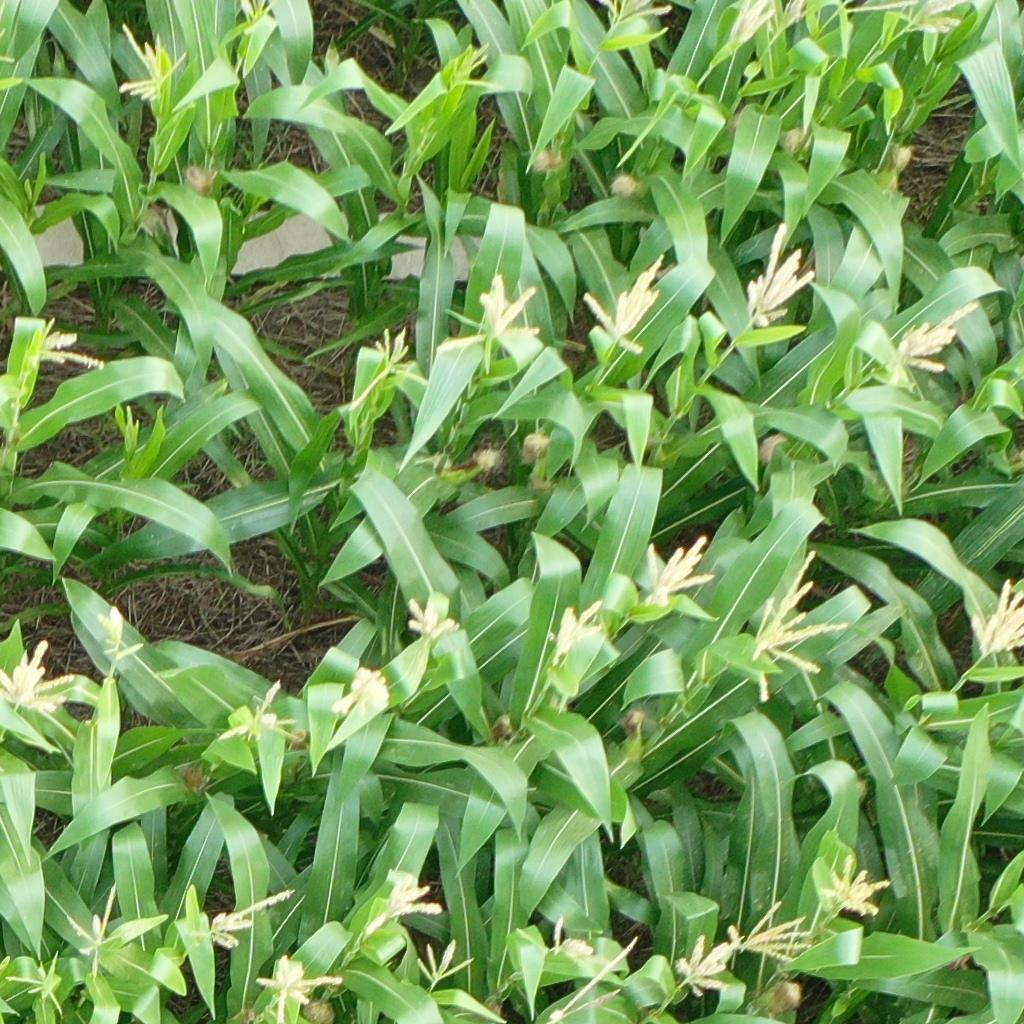Tassel: (747, 549, 849, 705), (579, 249, 667, 354), (737, 223, 818, 329), (889, 300, 979, 395), (546, 936, 638, 1024), (434, 276, 540, 352), (345, 326, 429, 416), (186, 889, 295, 949), (254, 952, 343, 1024), (727, 900, 814, 967), (218, 677, 300, 747), (1, 639, 77, 714), (641, 534, 717, 607), (119, 24, 188, 103), (361, 874, 446, 938), (69, 885, 124, 978), (818, 852, 891, 922), (25, 316, 106, 376), (969, 576, 1024, 658), (544, 596, 604, 668), (672, 933, 732, 1000), (4, 950, 64, 1012), (418, 937, 477, 990), (331, 665, 391, 716), (887, 1, 973, 36), (723, 1, 777, 50), (99, 605, 143, 661), (450, 43, 501, 91), (408, 596, 460, 641), (548, 914, 593, 960), (600, 1, 673, 27), (241, 1, 277, 29), (781, 1, 811, 26)
